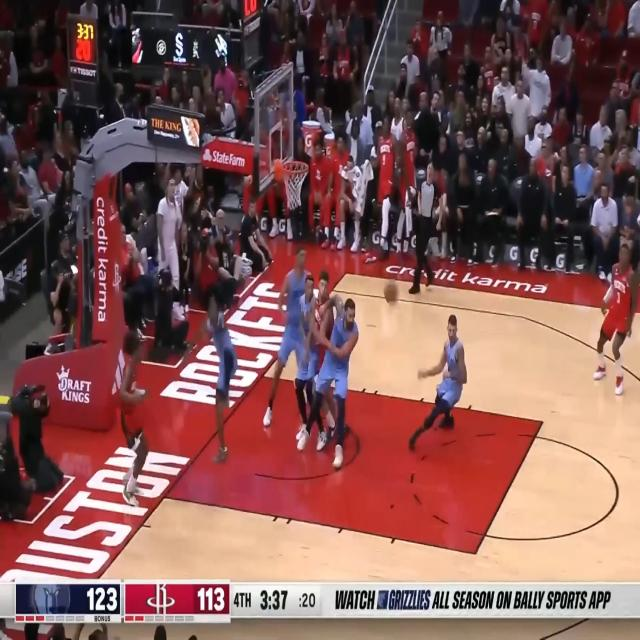Ball: (384, 278, 399, 306)
Hoop: (284, 158, 308, 208)
Period: (232, 586, 254, 612)
Player: (262, 247, 318, 443), (182, 292, 246, 461), (307, 260, 352, 479), (407, 315, 468, 462), (311, 288, 359, 474), (118, 322, 153, 523), (593, 242, 637, 398), (286, 280, 326, 446), (307, 269, 343, 442)
Ref: (408, 154, 442, 299)
Shot Clock: (299, 589, 318, 611)
Team Points: (87, 583, 118, 614), (198, 584, 226, 615)
Time Remaining: (258, 587, 291, 613)
